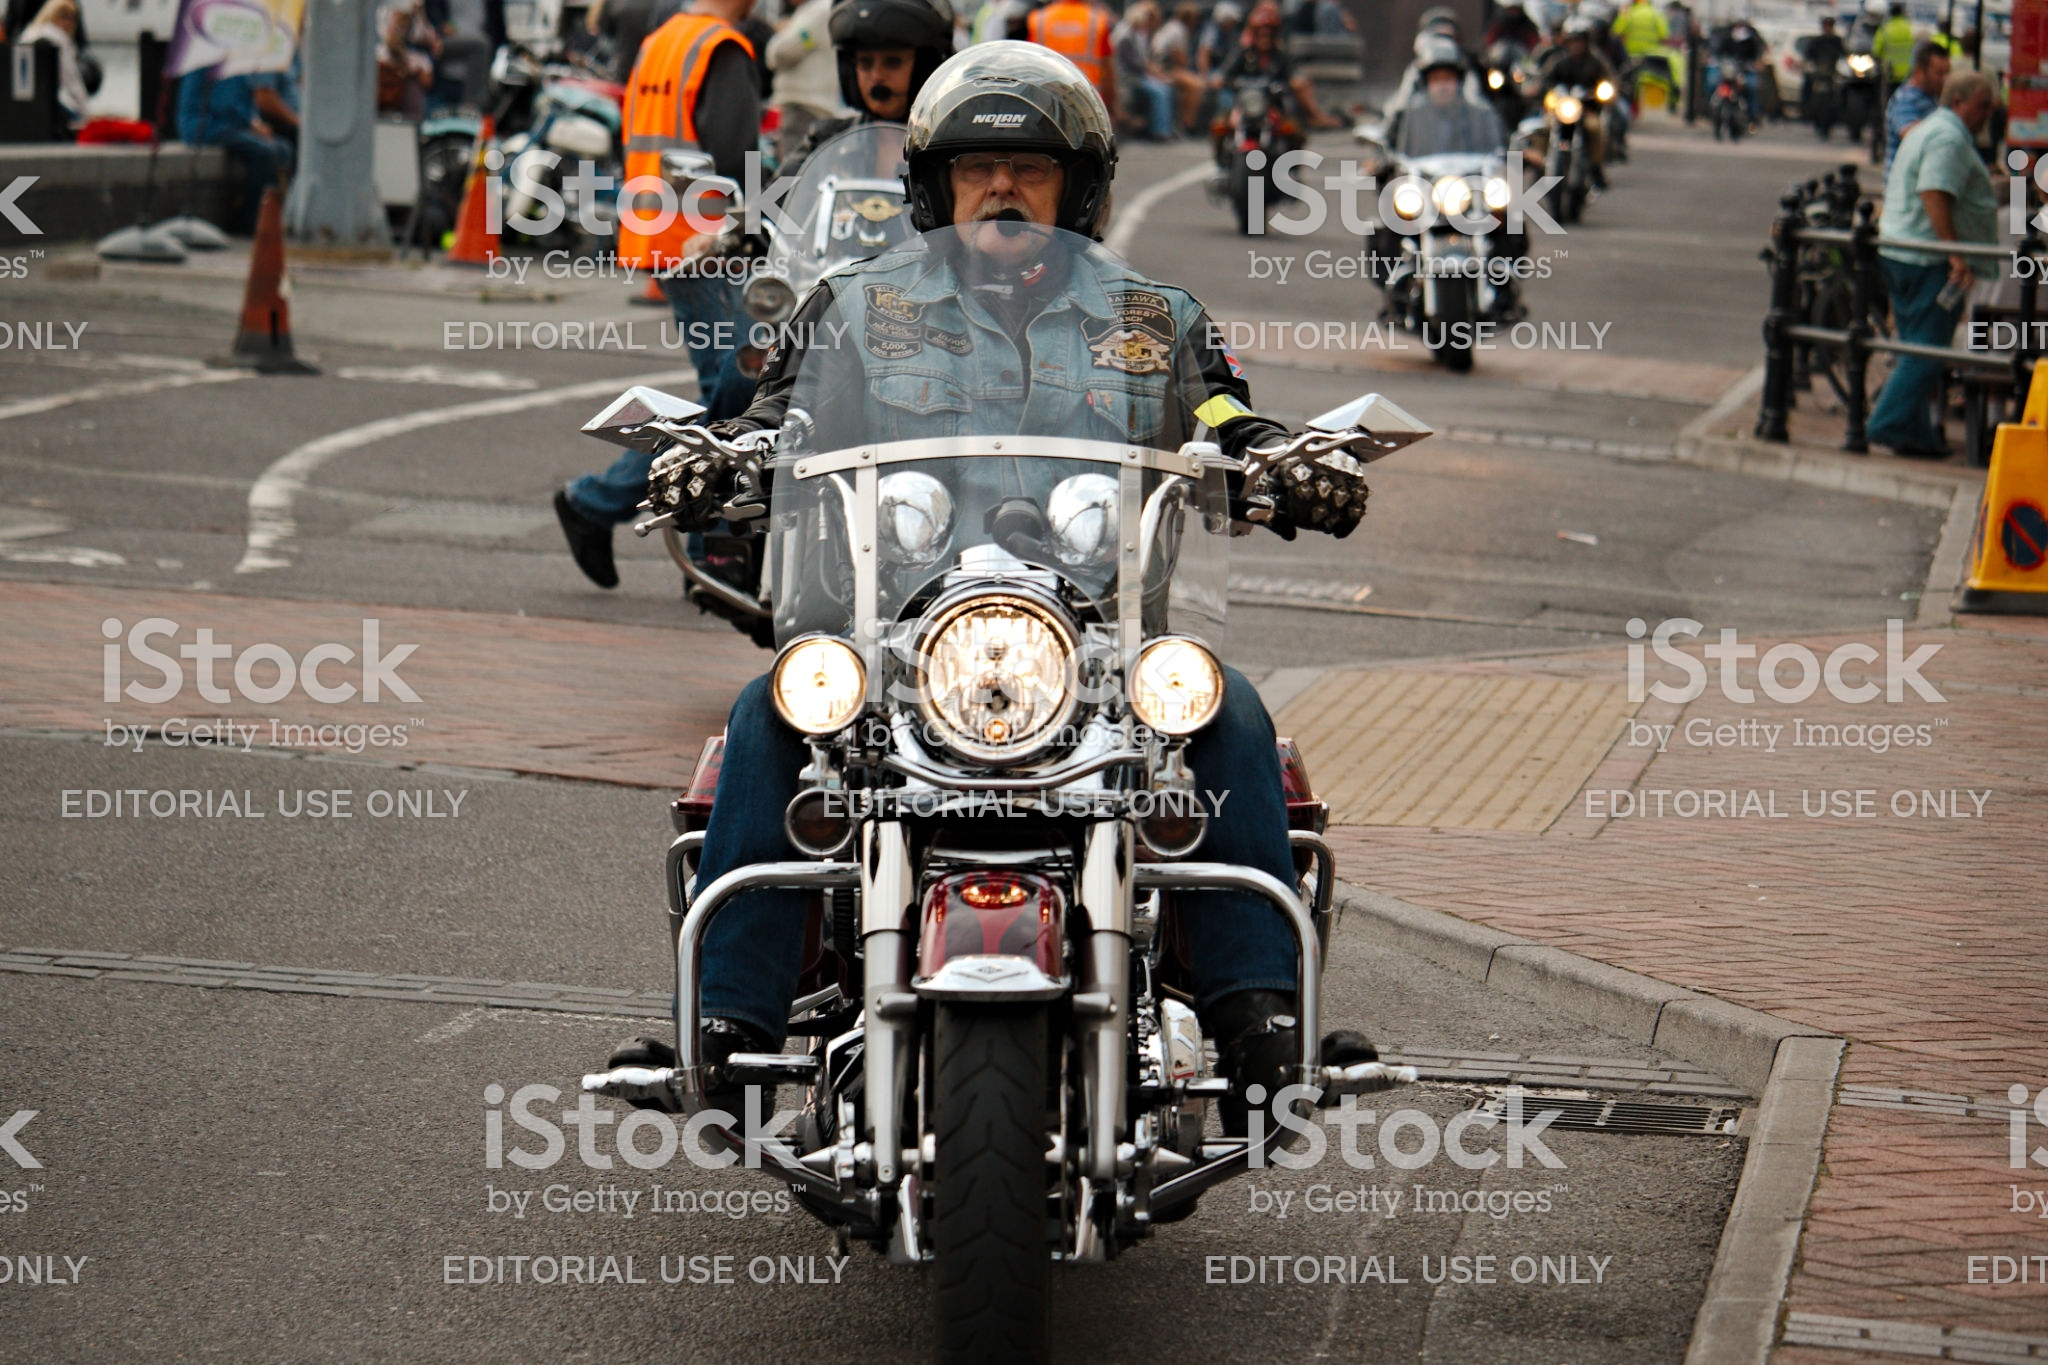helmet: (877, 38, 1124, 245)
